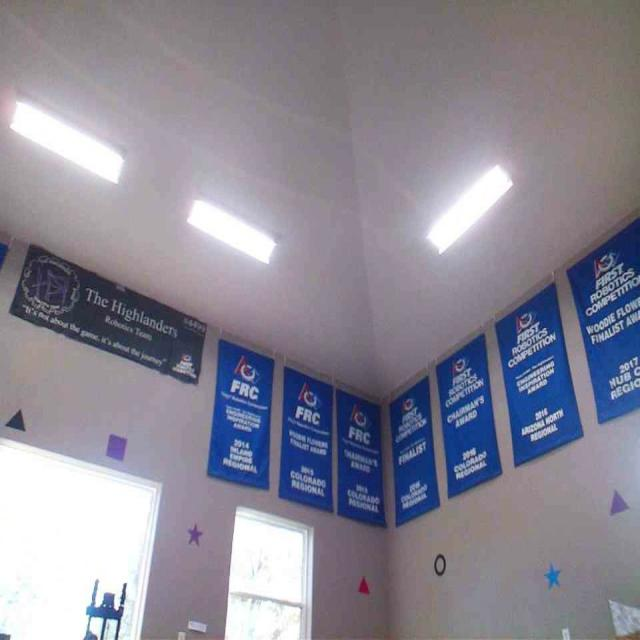ring_black: (434, 552, 446, 576)
square_purple: (103, 432, 127, 460)
star_blue: (544, 564, 560, 590)
star_purple: (187, 522, 203, 546)
triangle_black: (4, 405, 25, 431)
triangle_purple: (609, 488, 629, 514)
triangle_red: (358, 577, 370, 594)
